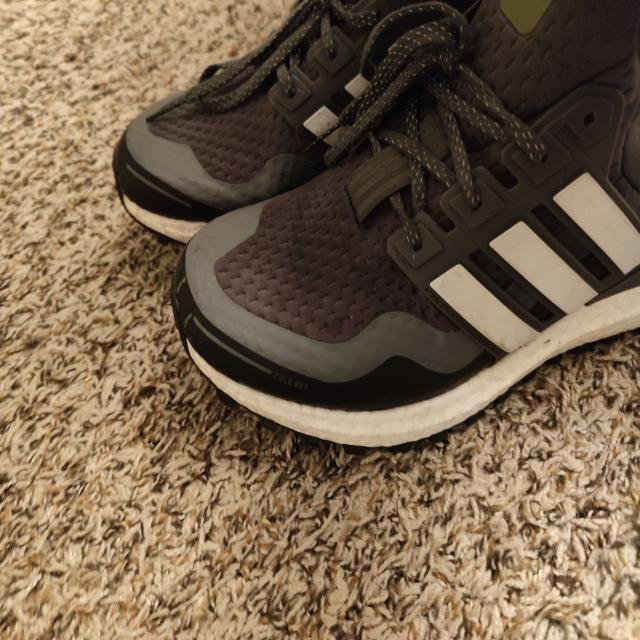black shoes: (123, 0, 640, 437)
